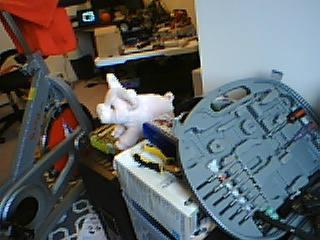piggy: (96, 72, 176, 151)
